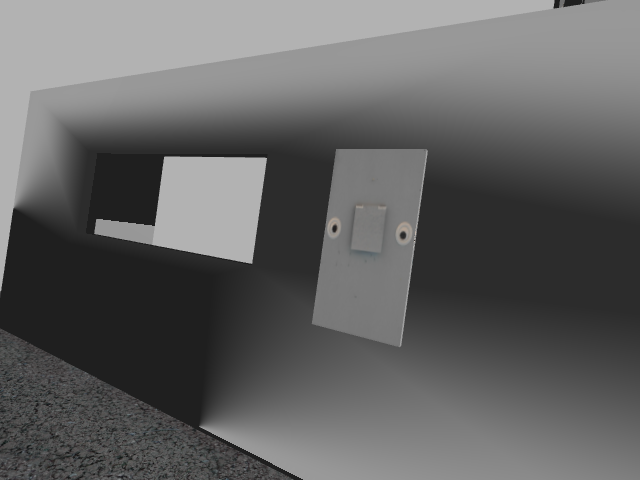facade: (322, 200, 414, 255)
